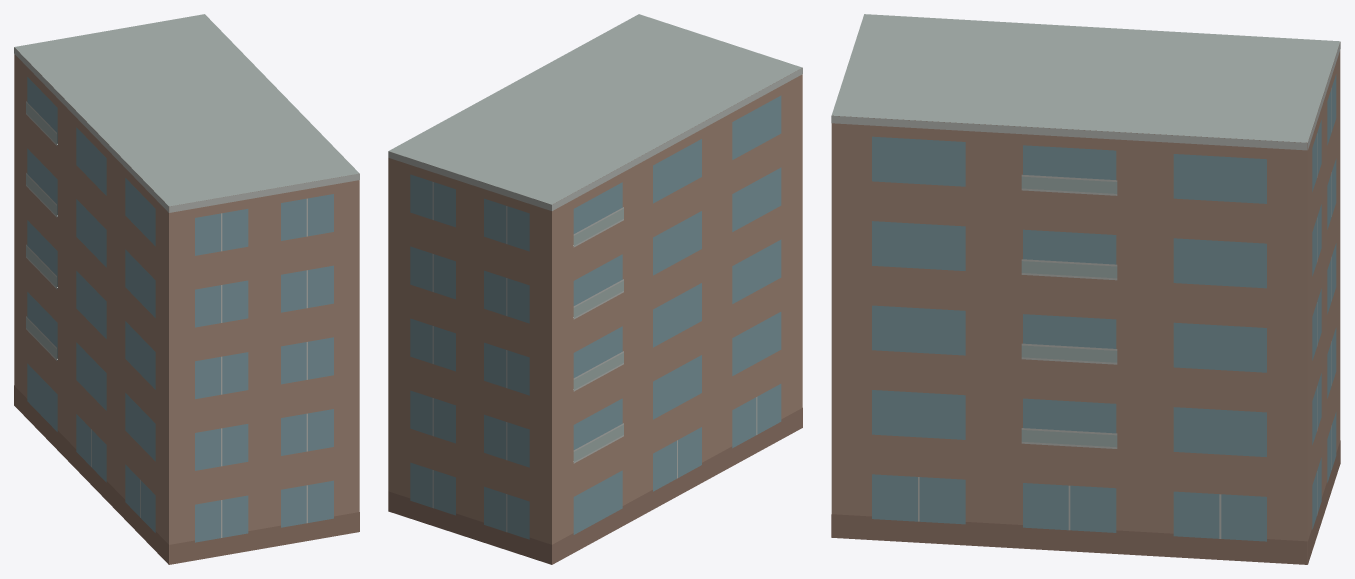
The model's file is survey-upis-32719662.glb.
3 renders of one model, left to right at view 1: azimuth 30°, elevation 25°; view 2: azimuth 150°, elevation 25°; view 3: azimuth 270°, elevation 25°, orthographic. The views are drawn at different scales.
Parts seen in each view (by area): view 1: survey-upis-32719662.tmp; view 2: survey-upis-32719662.tmp; view 3: survey-upis-32719662.tmp.
Part boxes in pixels (box(x1,y1,x2,y2)): survey-upis-32719662.tmp: box(14, 14, 359, 564); survey-upis-32719662.tmp: box(388, 14, 802, 564); survey-upis-32719662.tmp: box(831, 14, 1340, 564).
Size of the model in its own units: 8.81 by 13.45 by 14.71.
